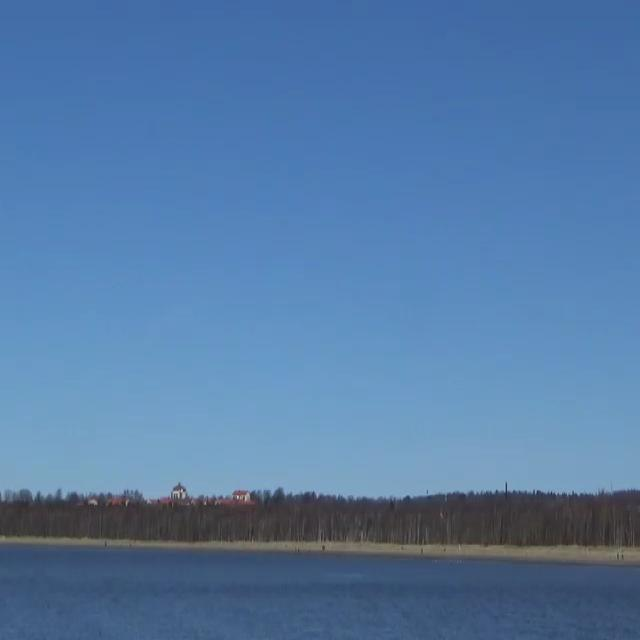Helicopter: (402, 410, 432, 450)
